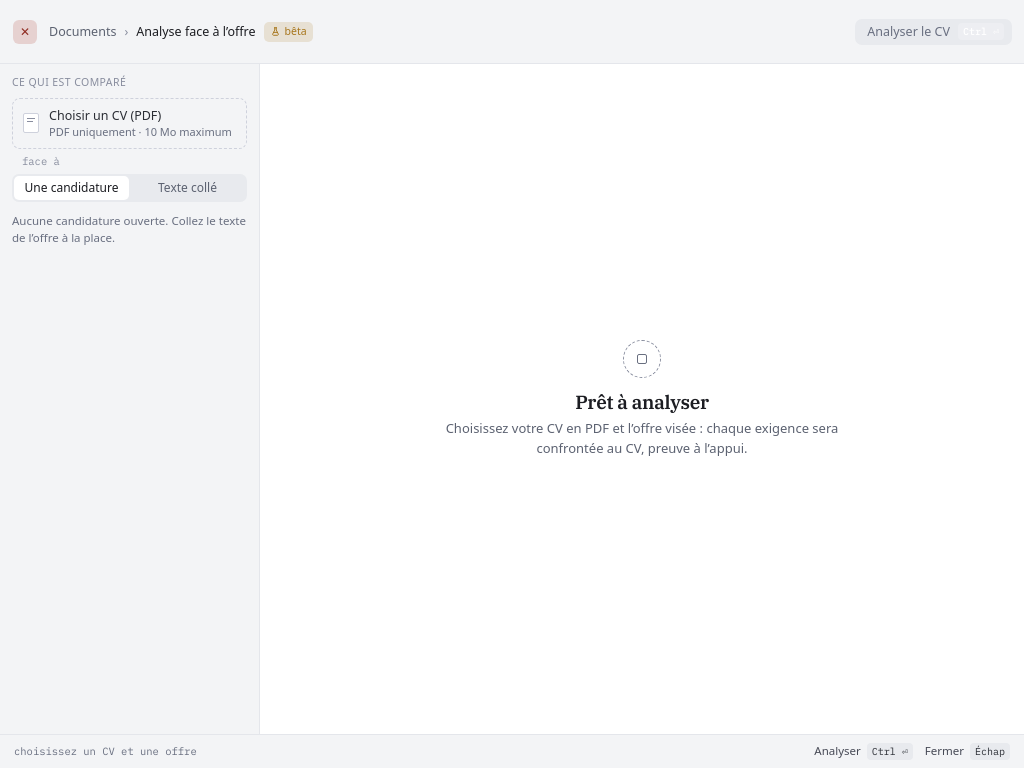
it: analyse explicite d'un CV sélectionné › restaure le formulaire et conserve le fichier après une erreur
Click the tab "Texte collé" at [188, 188], box [130,176,245,200]
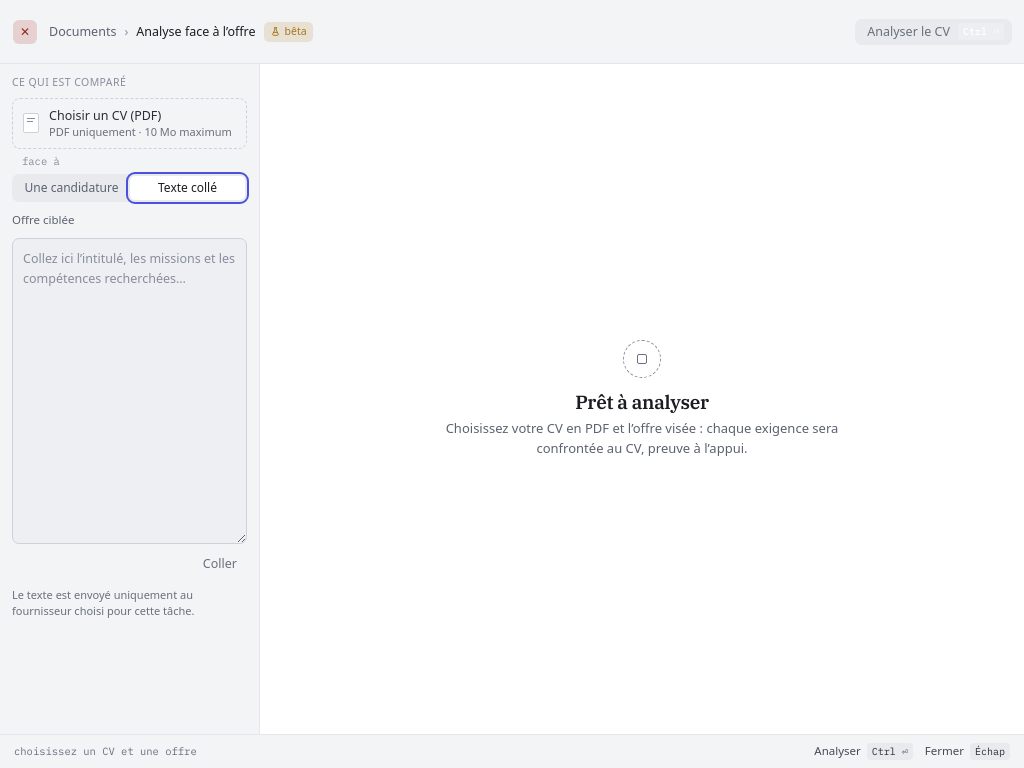
Type "Une offre" into the text box labelled "Offre ciblée" at [130, 391], box [12,238,247,544]
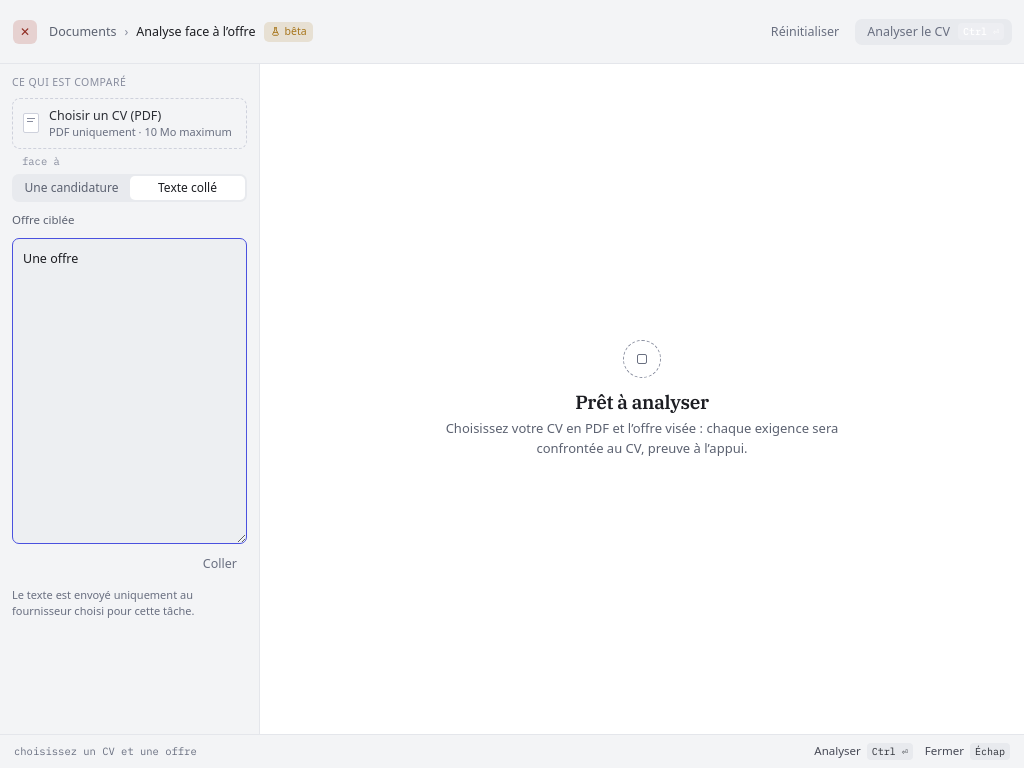
Click the button with aria-label "Choisir un fichier" at [130, 123], box [12,98,247,148]
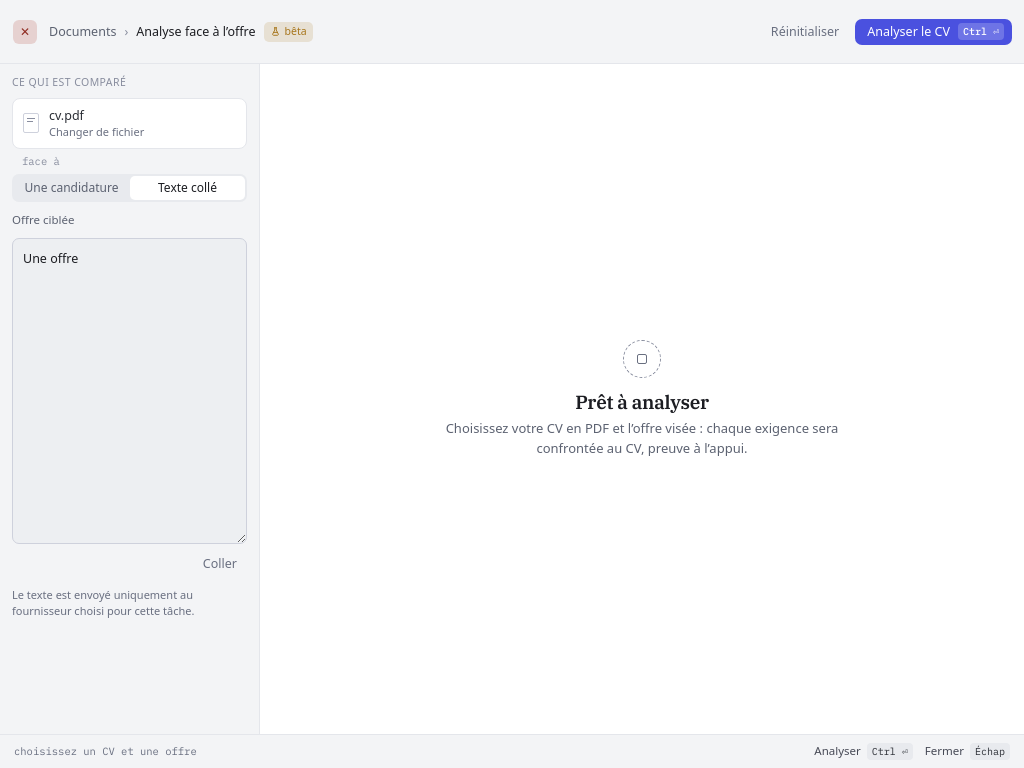
Click the button "Analyser le CV Ctrl ⏎" at [934, 32], box [855,18,1012,44]
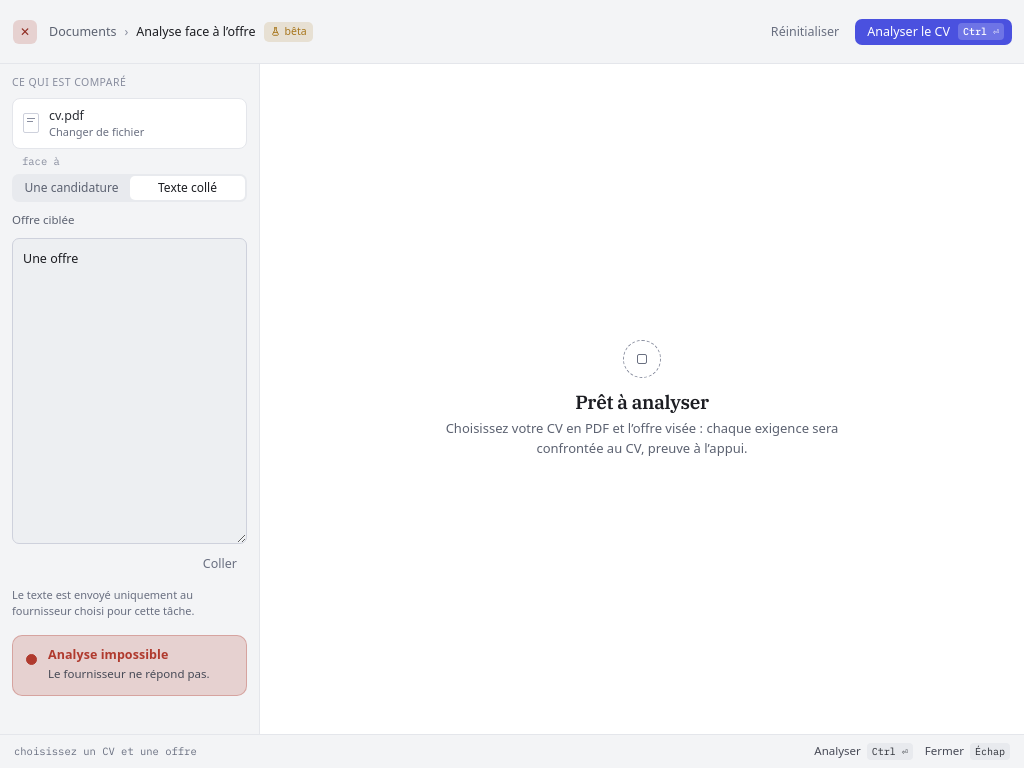
Check: the text "cv.pdf" is shown, box [49,107,84,124]
Check: the text "Le fournisseur ne répond pas." is shown, box [48,665,233,682]
